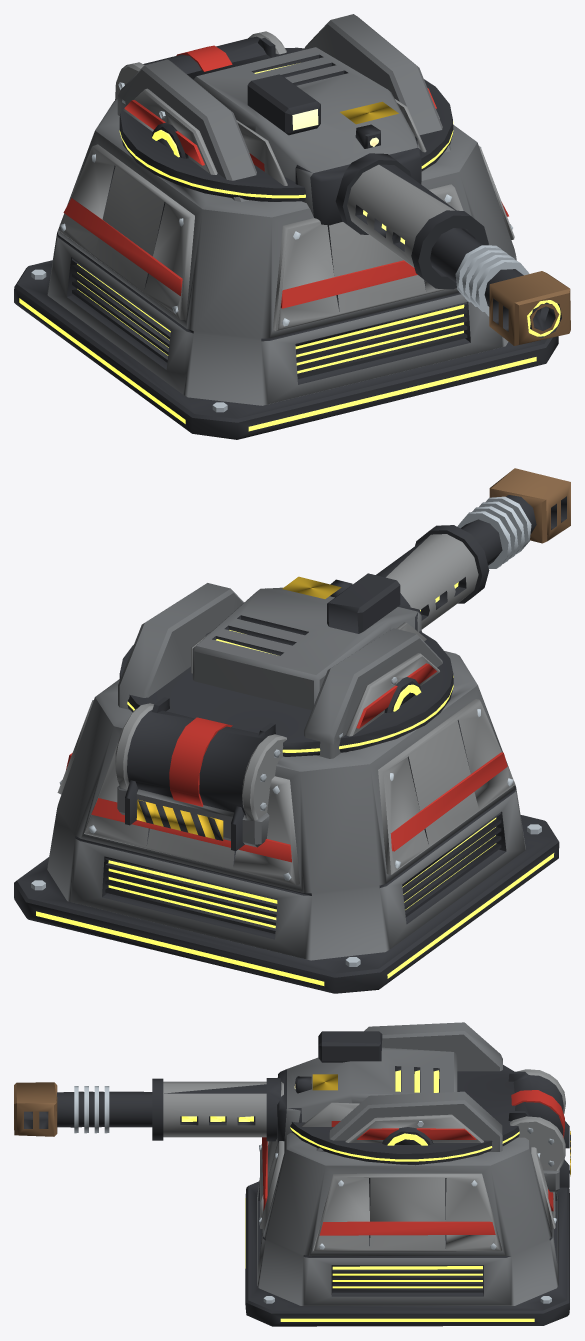
The model's file is R4W_Basic_LOD1.fbx.
3 renders of one model, top to bottom at view 1: azimuth 30°, elevation 25°; view 2: azimuth 150°, elevation 25°; view 3: azimuth 270°, elevation 25°, orthographic. The views are drawn at different scales.
Visible parts, largest first — view 1: R4W_Basic_Base_LOD1, R4W_Basic_Pitch_LOD1, R4W_Basic_Yaw_LOD1, R4W_Basic_Barrel_LOD1; view 2: R4W_Basic_Base_LOD1, R4W_Basic_Yaw_LOD1, R4W_Basic_Pitch_LOD1, R4W_Basic_Barrel_LOD1; view 3: R4W_Basic_Base_LOD1, R4W_Basic_Pitch_LOD1, R4W_Basic_Yaw_LOD1, R4W_Basic_Barrel_LOD1.
Part boxes in pixels (bbox=[...]): R4W_Basic_Base_LOD1: bbox=[14, 47, 558, 439]; R4W_Basic_Pitch_LOD1: bbox=[193, 47, 488, 289]; R4W_Basic_Yaw_LOD1: bbox=[115, 14, 451, 201]; R4W_Basic_Barrel_LOD1: bbox=[430, 228, 570, 345]; R4W_Basic_Base_LOD1: bbox=[14, 631, 559, 993]; R4W_Basic_Yaw_LOD1: bbox=[115, 583, 442, 850]; R4W_Basic_Pitch_LOD1: bbox=[191, 525, 489, 710]; R4W_Basic_Barrel_LOD1: bbox=[421, 468, 570, 610]; R4W_Basic_Base_LOD1: bbox=[245, 1065, 569, 1326]; R4W_Basic_Pitch_LOD1: bbox=[152, 1031, 457, 1143]; R4W_Basic_Yaw_LOD1: bbox=[316, 1022, 570, 1192]; R4W_Basic_Barrel_LOD1: bbox=[14, 1082, 255, 1136].
Bounding box in the file's own units: 0.5114 × 0.361 × 0.877.
